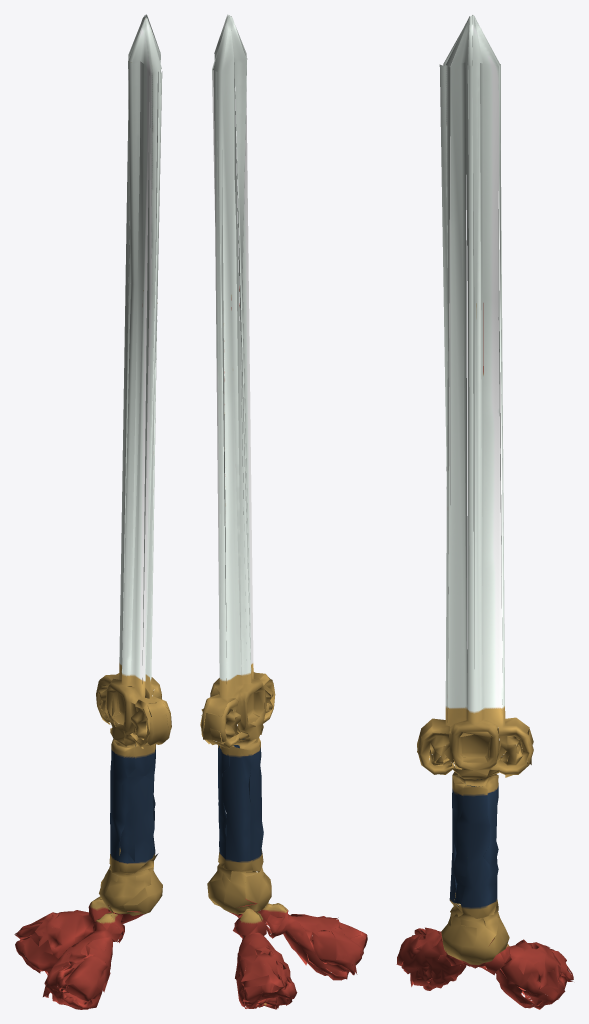
The model's file is prop_phi_kiem.8b0efdf9ff.glb.
The picture shows the model from 3 angles, left to right: view 1: azimuth 30°, elevation 25°; view 2: azimuth 150°, elevation 25°; view 3: azimuth 270°, elevation 25°; orthographic projection. The views are drawn at different scales.
Parts seen in each view (by area): view 1: prop_phi_kiem; view 2: prop_phi_kiem; view 3: prop_phi_kiem.
Boxes of the visible parts, <box> form: prop_phi_kiem: <box>14,14,171,1009</box>; prop_phi_kiem: <box>200,14,367,1009</box>; prop_phi_kiem: <box>396,15,573,1009</box>.
Bounding box in the file's own units: 0.1434 × 1 × 0.1577.
1 material, 1 textured.
